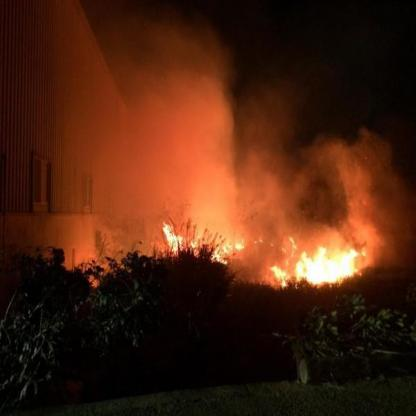fire: (149, 207, 366, 293)
